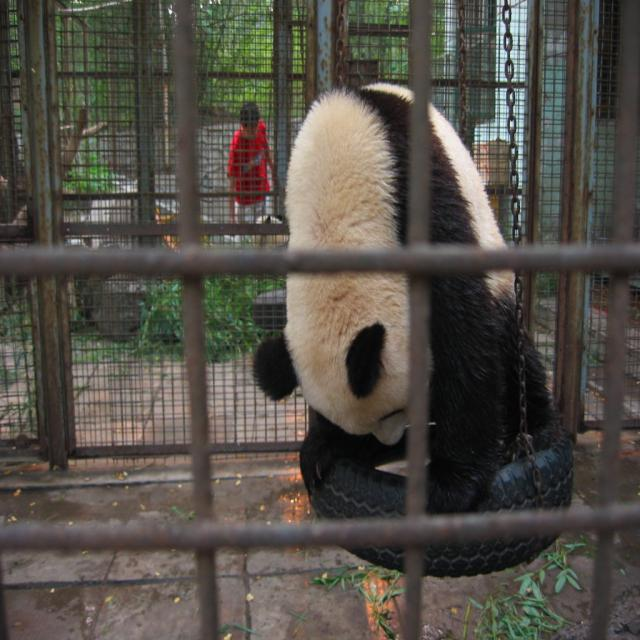panda: (239, 79, 556, 528)
